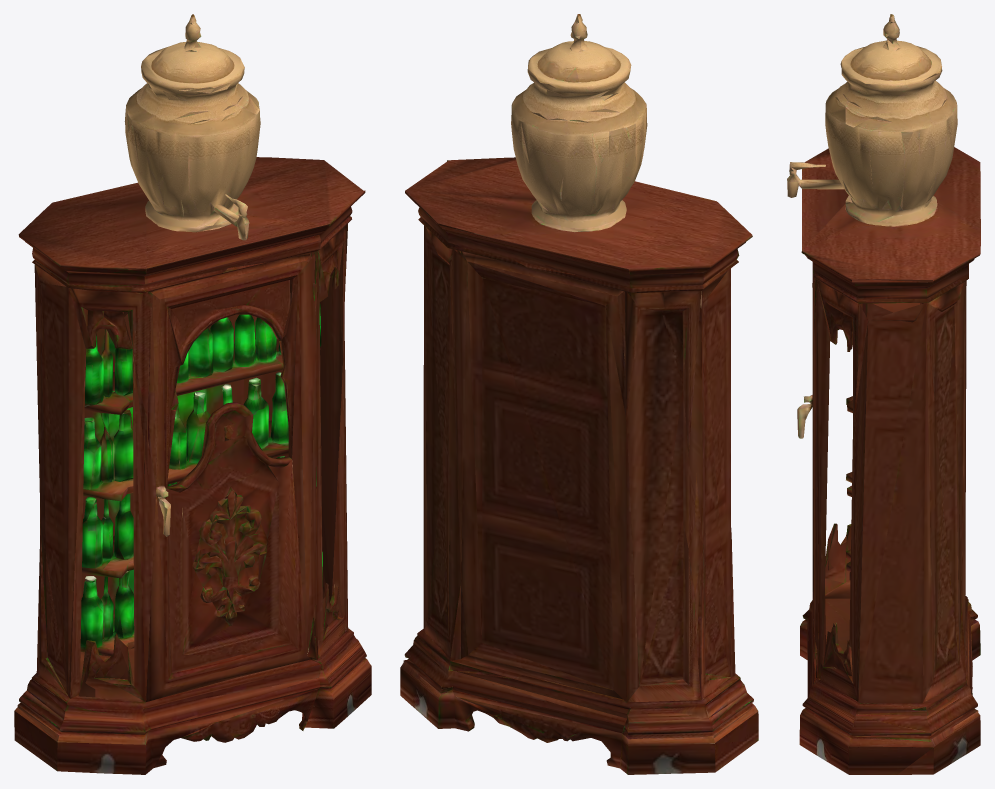
The model's file is perk_quickhands_lh.glb.
3 renders of one model, left to right at view 1: azimuth 30°, elevation 25°; view 2: azimuth 150°, elevation 25°; view 3: azimuth 270°, elevation 25°, orthographic. The views are drawn at different scales.
Parts seen in each view (by area): view 1: perk_quickhands_lh; view 2: perk_quickhands_lh; view 3: perk_quickhands_lh.
Part boxes in pixels (x1,y1,x2,y2): perk_quickhands_lh: [14, 14, 371, 774]; perk_quickhands_lh: [400, 14, 758, 774]; perk_quickhands_lh: [787, 14, 980, 774].
Bounding box in the file's own units: 0.9827 × 2.1 × 0.5374.
1 material, 1 textured.
